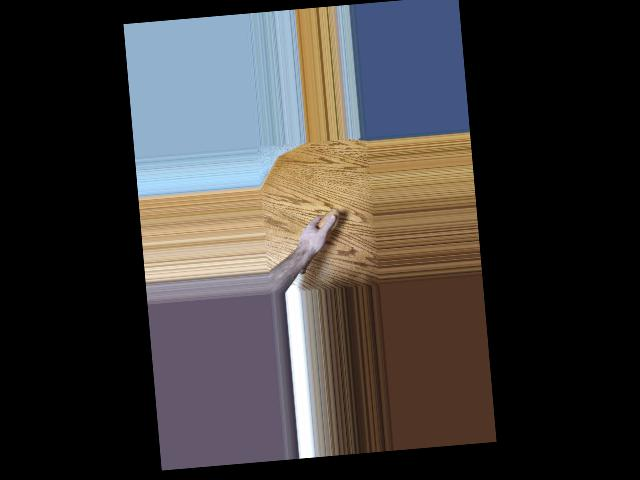sweet_potato: (289, 207, 344, 277)
